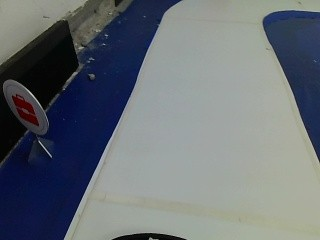company: (0, 77, 50, 136)
